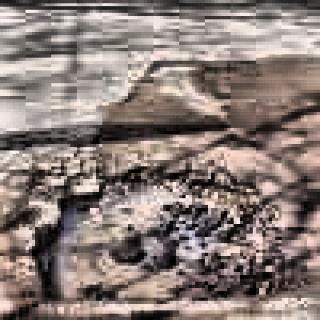alligator-crack: (0, 138, 102, 186)
pothole: (28, 180, 288, 308)
